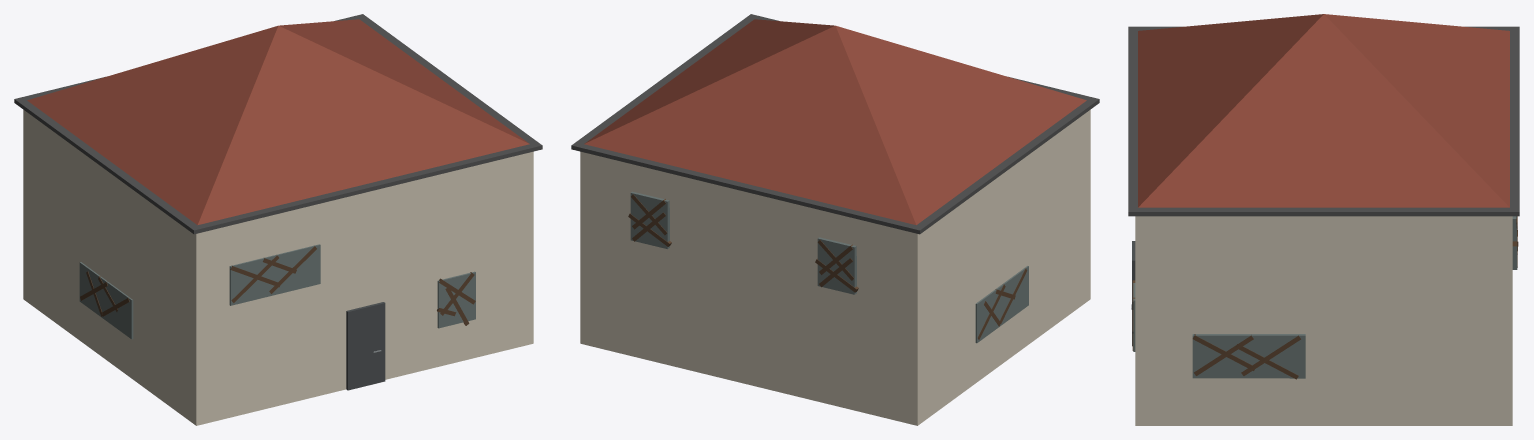
Rendered from wohnhausVar3.glb.
3 renders of one model, left to right at view 1: azimuth 30°, elevation 25°; view 2: azimuth 150°, elevation 25°; view 3: azimuth 270°, elevation 25°, orthographic. The views are drawn at different scales.
Parts seen in each view (by area): view 1: Cube; view 2: Cube; view 3: Cube.
Part boxes in pixels (<box>): Cube: <box>14,14,542,425</box>; Cube: <box>571,14,1099,425</box>; Cube: <box>1128,14,1519,425</box>.
Bounding box in the file's own units: 9.3 × 7.54 × 8.3.
